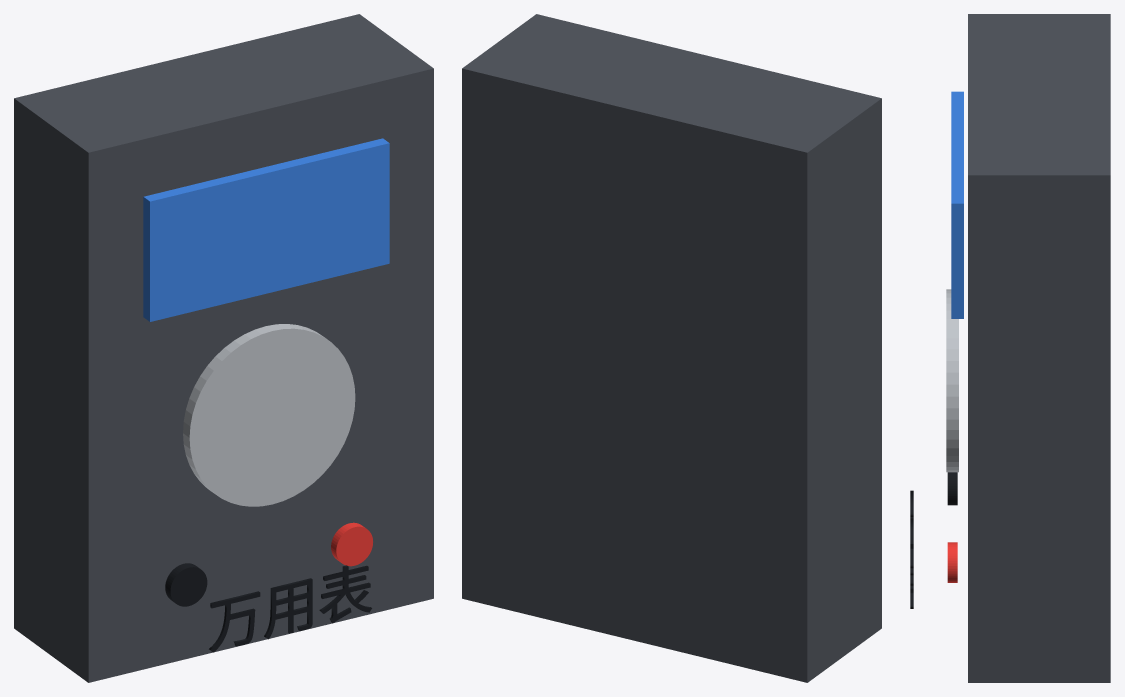
Rendered from asset_multimeter.glb.
3 views of the same model, side by side, from view 1: azimuth 30°, elevation 25°; view 2: azimuth 150°, elevation 25°; view 3: azimuth 270°, elevation 25° (orthographic). The views are drawn at different scales.
Visible parts, largest first — view 1: meter_body, lcd, dial, asset_label, black_port, red_port; view 2: meter_body; view 3: meter_body, lcd, dial, asset_label, red_port, black_port.
Part boxes in pixels (x1=…): meter_body: x1=14, y1=14, x2=433, y2=682; lcd: x1=143, y1=138, x2=389, y2=321; dial: x1=183, y1=324, x2=355, y2=506; asset_label: x1=209, y1=565, x2=371, y2=652; black_port: x1=165, y1=563, x2=207, y2=606; red_port: x1=331, y1=522, x2=372, y2=566; meter_body: x1=462, y1=14, x2=881, y2=682; meter_body: x1=968, y1=14, x2=1110, y2=682; lcd: x1=951, y1=91, x2=963, y2=318; dial: x1=946, y1=289, x2=958, y2=472; asset_label: x1=910, y1=490, x2=913, y2=608; red_port: x1=947, y1=542, x2=957, y2=582; black_port: x1=947, y1=472, x2=957, y2=505.
Size of the model in its own units: 0.75 by 1.1 by 0.393.
